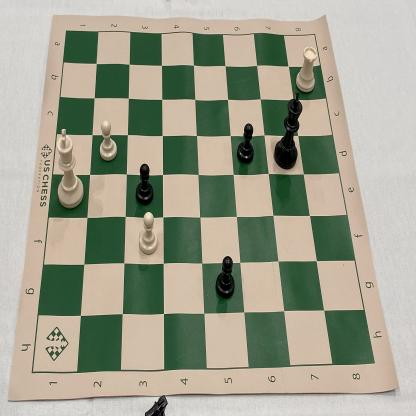black-king: (271, 90, 306, 176)
black-pawn: (135, 159, 157, 208), (236, 119, 258, 166)
white-king: (53, 126, 89, 214)
white-pawn: (137, 210, 162, 257), (96, 118, 119, 162)
white-queen: (213, 252, 237, 302)
white-rook: (295, 43, 321, 97)
